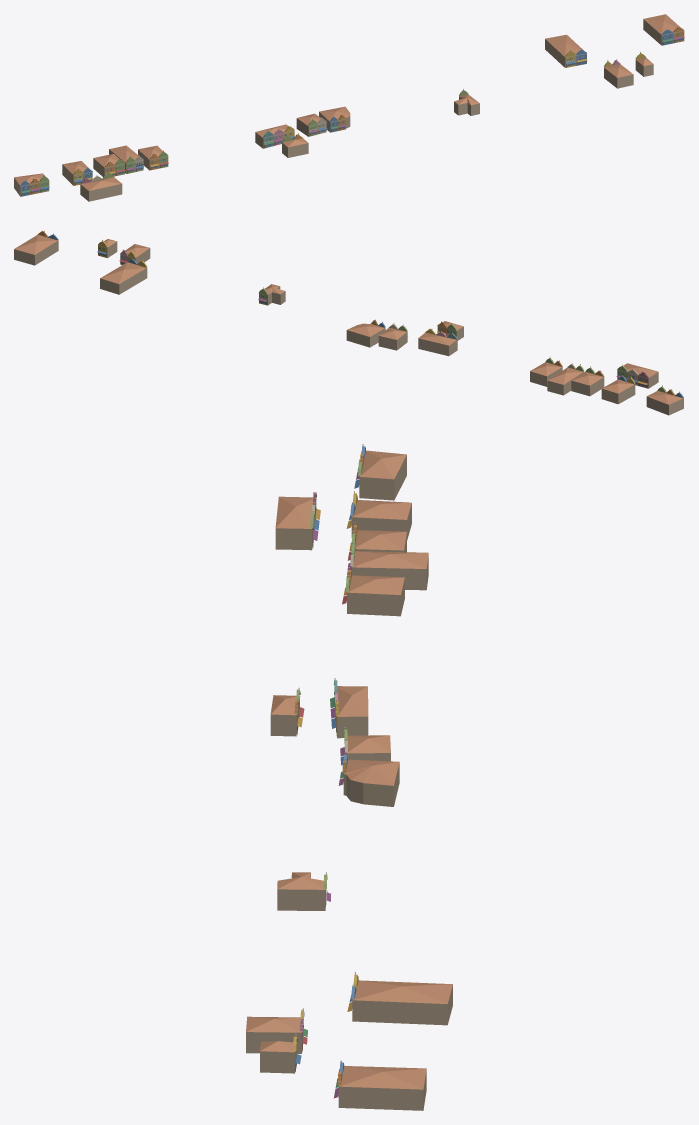
File: ora_steen.glb
3 views of the same model, one above another, from view 1: azimuth 30°, elevation 25°; view 2: azimuth 150°, elevation 25°; view 3: azimuth 270°, elevation 25° (orthographic). The views are drawn at different scales.
Visible parts, largest first — view 1: ora_steen_lod0; view 2: ora_steen_lod0; view 3: ora_steen_lod0.
Boxes of the visible parts, x1,y1,x2,y2 form: ora_steen_lod0: [14, 14, 684, 201]; ora_steen_lod0: [14, 230, 683, 415]; ora_steen_lod0: [246, 444, 452, 1110].
Size of what is drawn, in the model's own units: 368 by 13.76 by 50.4.
Materials: 3 (1 with a texture image).
